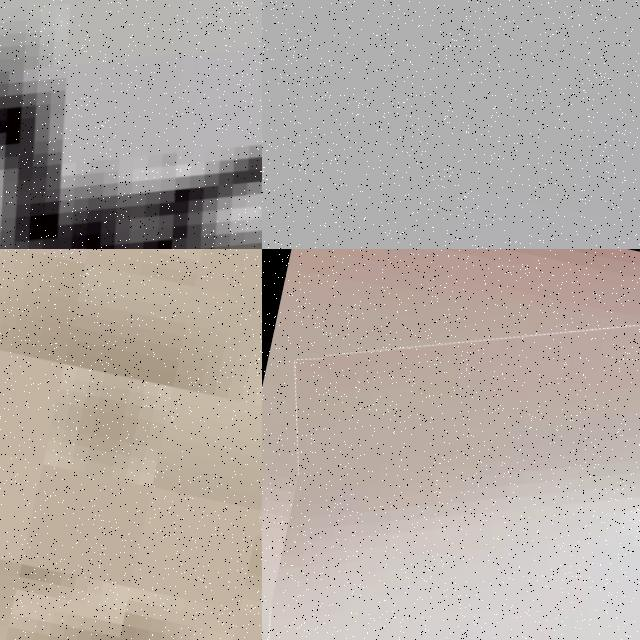drone: (262, 262, 640, 640), (0, 0, 262, 249)
